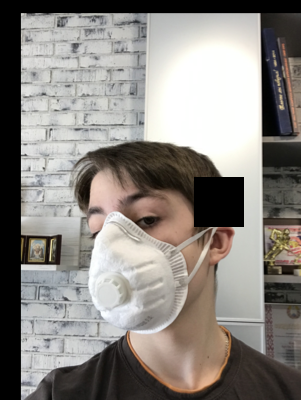with_mask: (85, 187, 200, 336)
